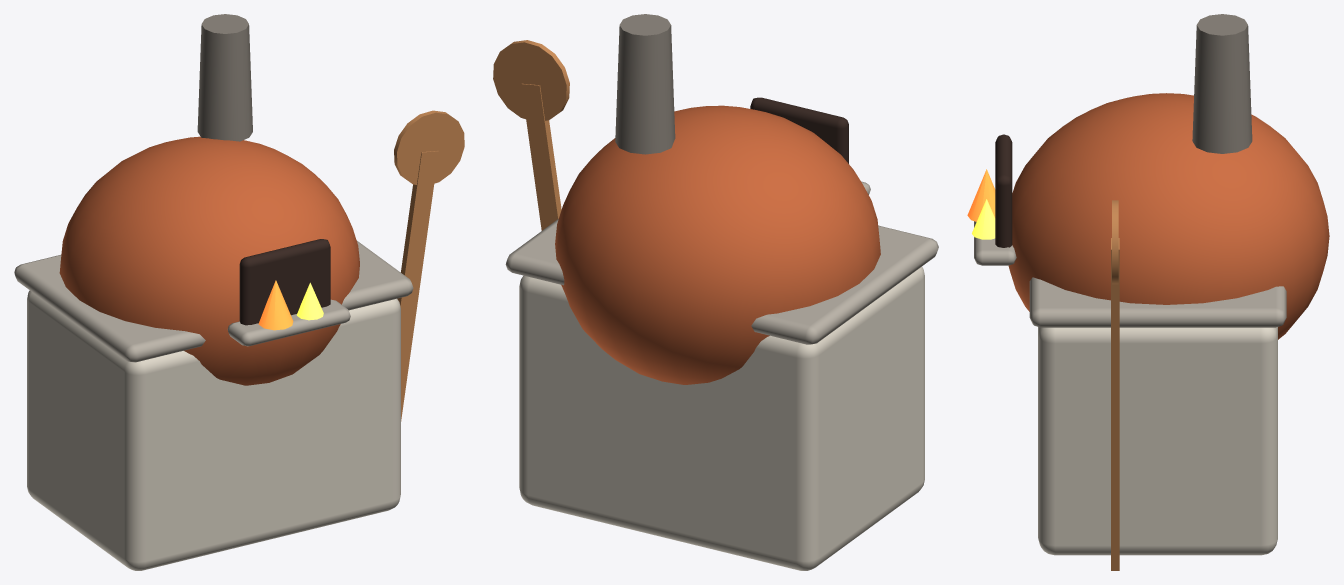
The model's file is grill-pizza.glb.
3 renders of one model, left to right at view 1: azimuth 30°, elevation 25°; view 2: azimuth 150°, elevation 25°; view 3: azimuth 270°, elevation 25°, orthographic. The views are drawn at different scales.
Bounding box in the file's own units: 1.09 × 1.25 × 0.845.
